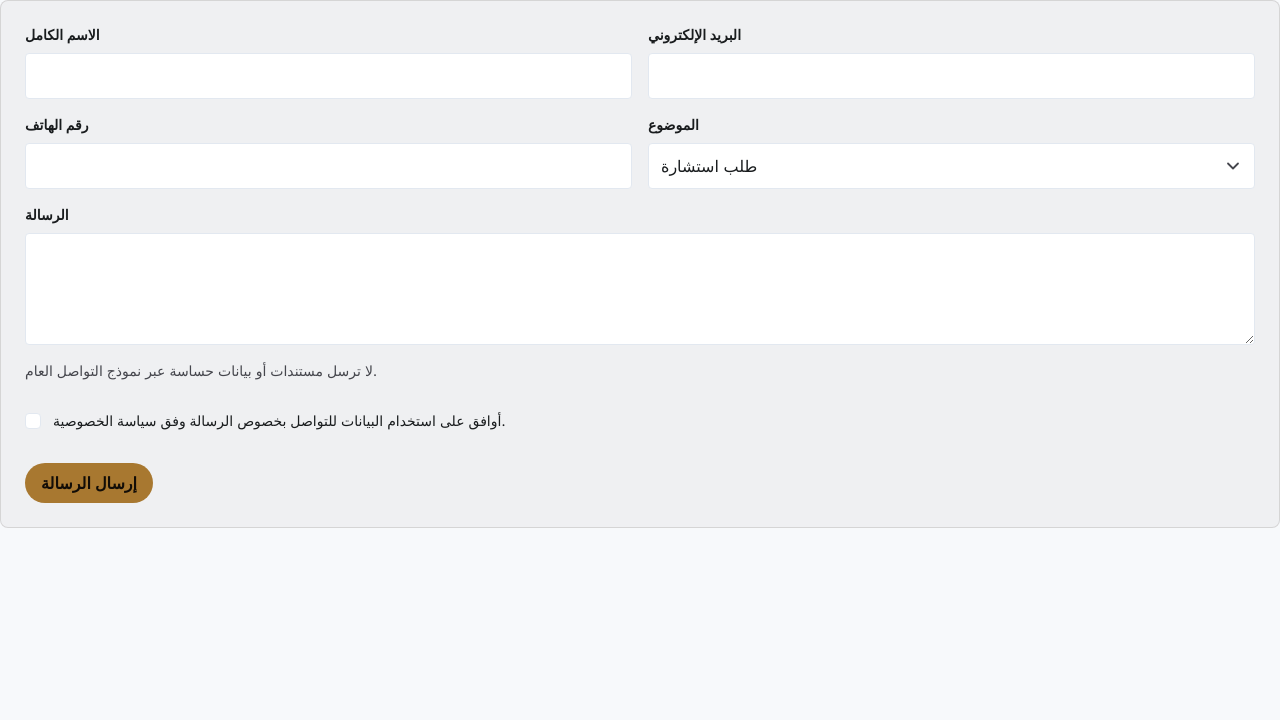
Test: public contact form recovery › retains values and supports retry after a rejected ar request
The width and height of the screenshot is (1280, 720).
Expected: the button "إرسال الرسالة" is enabled, left=25, top=463, right=153, bottom=503
Type "Synthetic Contact" into the field labelled "الاسم الكامل" at point(328, 76), box left=25, top=53, right=632, bottom=99
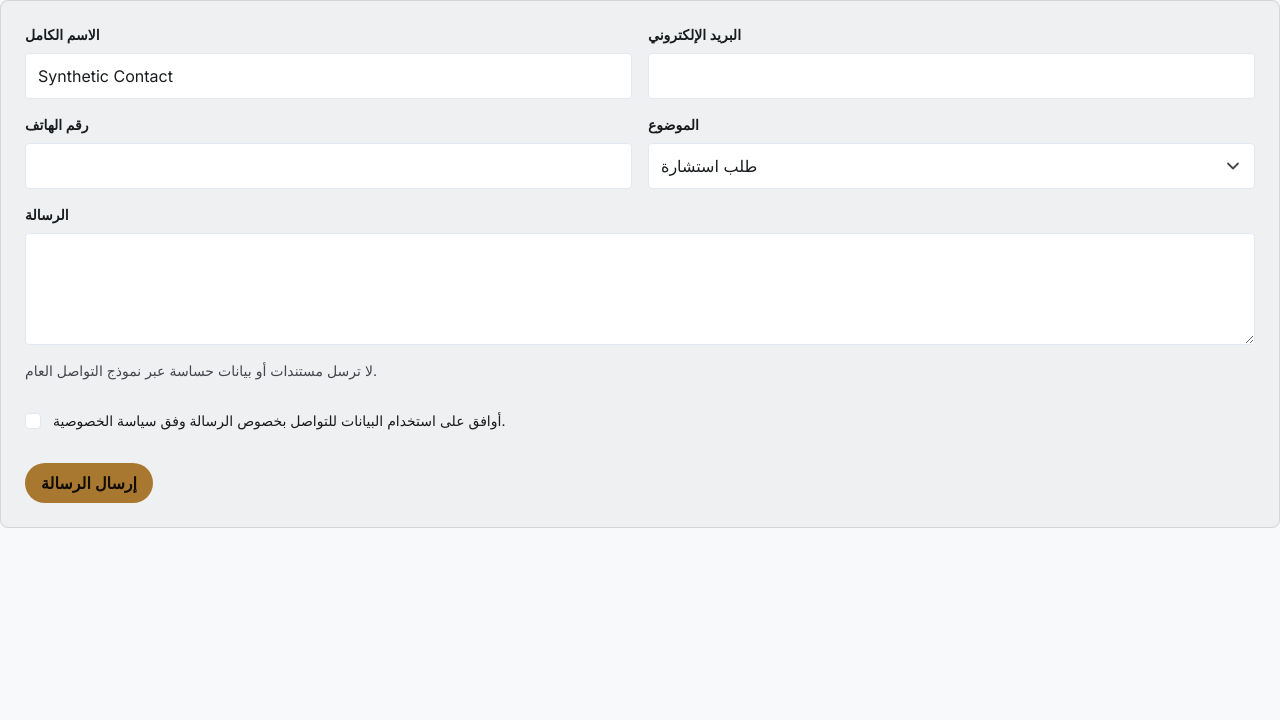
Type "synthetic@example.test" into the field labelled "البريد الإلكتروني" at point(952, 76), box left=648, top=53, right=1255, bottom=99
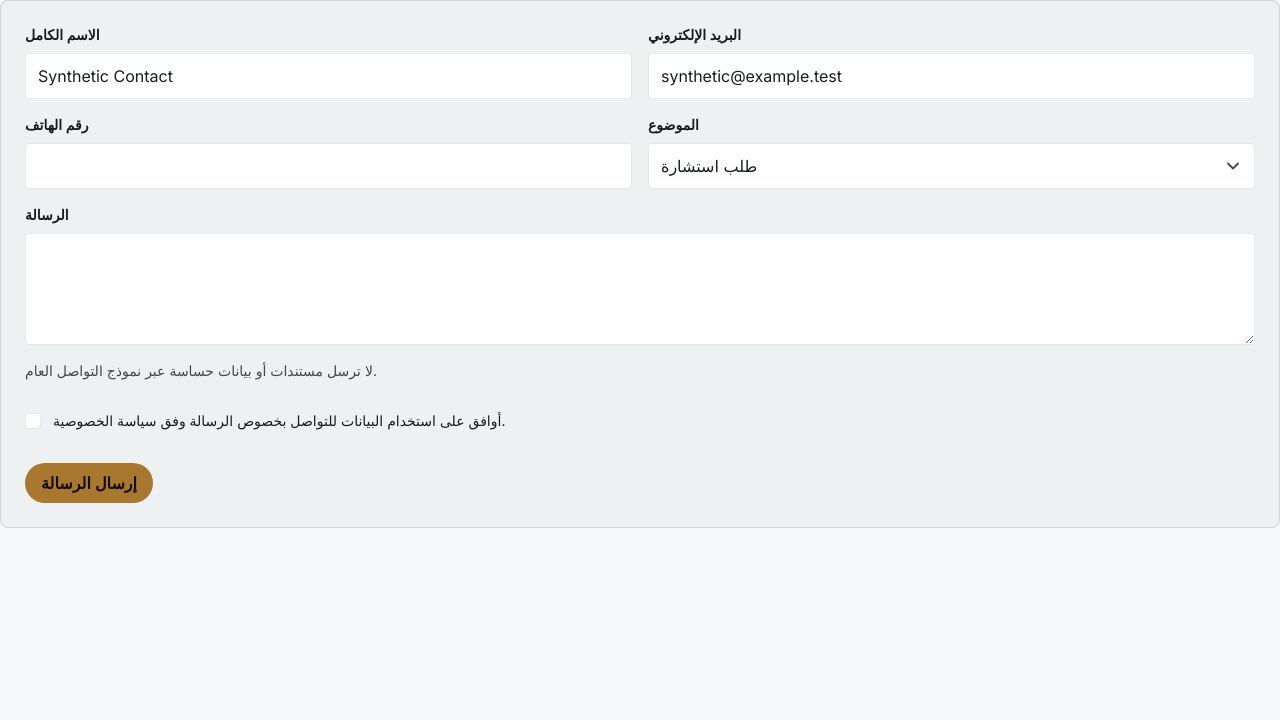
Type "Synthetic message retained after a network failure." into the text box labelled "الرسالة" at point(640, 289), box left=25, top=233, right=1255, bottom=345
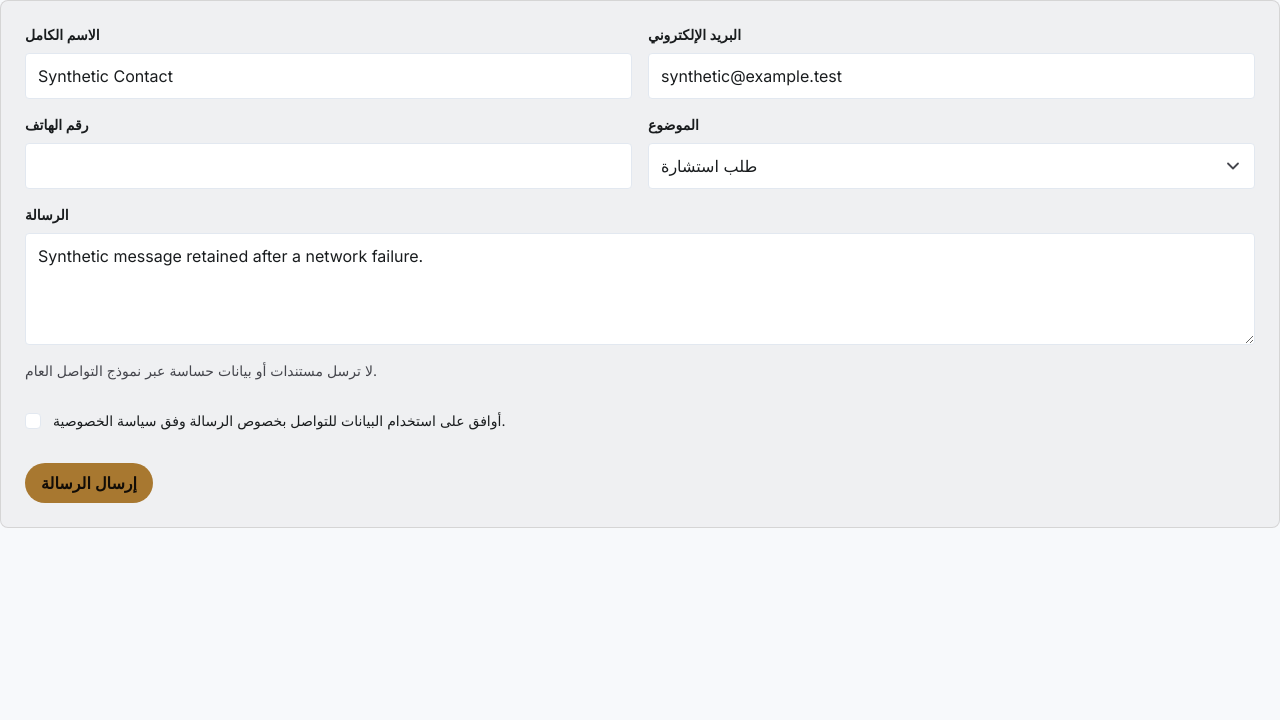
Click the checkbox at point(33, 421), box left=25, top=413, right=41, bottom=429
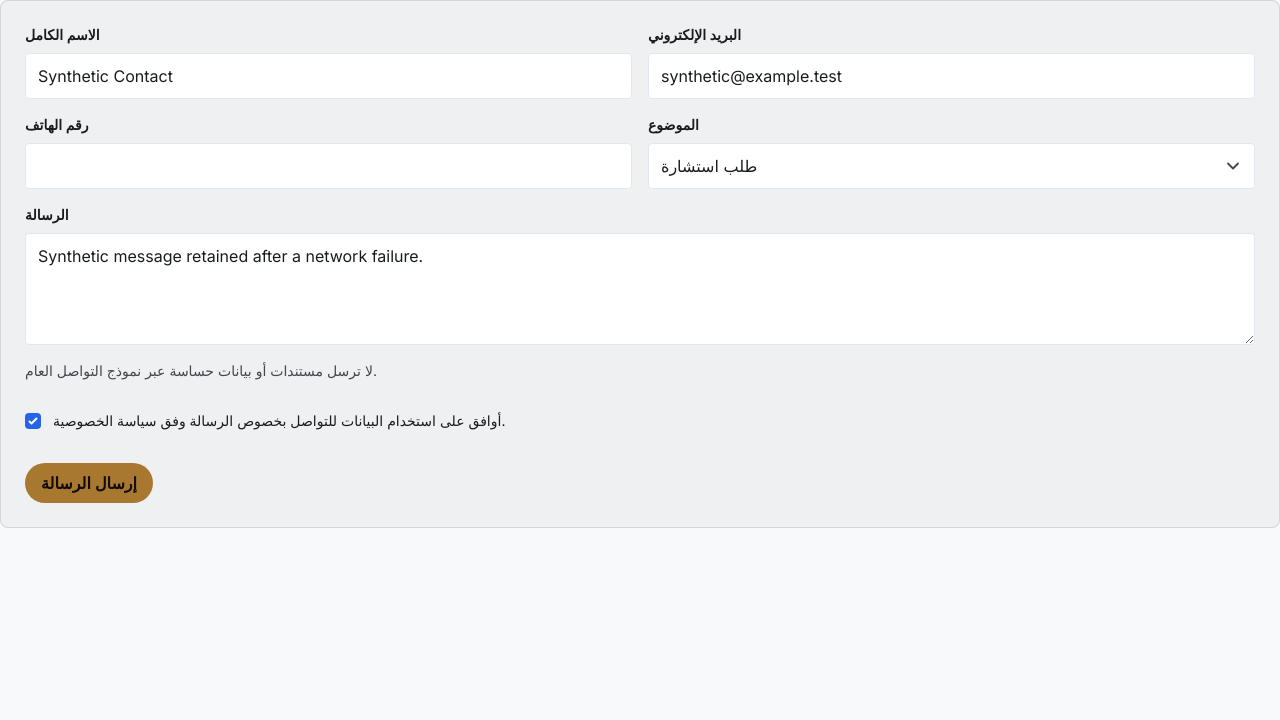
Click the button "إرسال الرسالة" at point(89, 483), box left=25, top=463, right=153, bottom=503
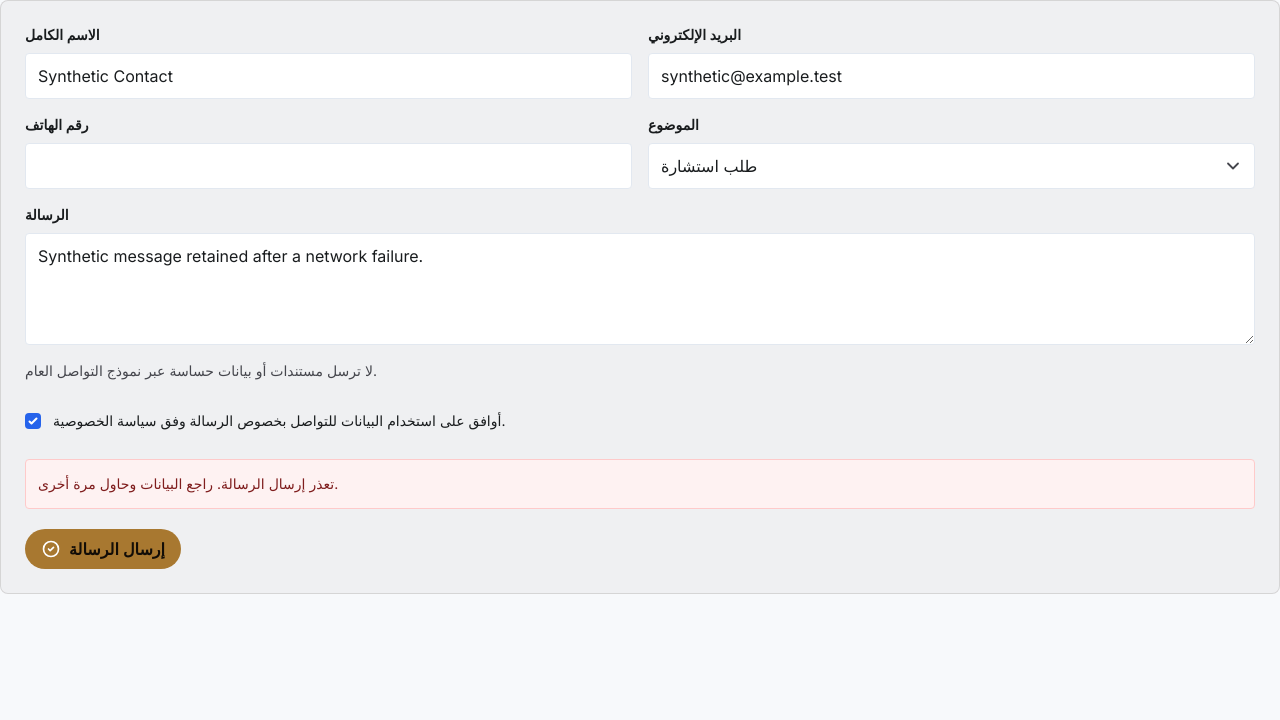
Now the message "تعذر إرسال الرسالة. راجع البيانات وحاول مرة أخرى." is shown, box left=25, top=459, right=1255, bottom=509
Now the message reads "تعذر إرسال الرسالة. راجع البيانات وحاول مرة أخرى.", box left=38, top=475, right=338, bottom=492
Click the button "إرسال الرسالة" at point(103, 549), box left=25, top=529, right=181, bottom=569
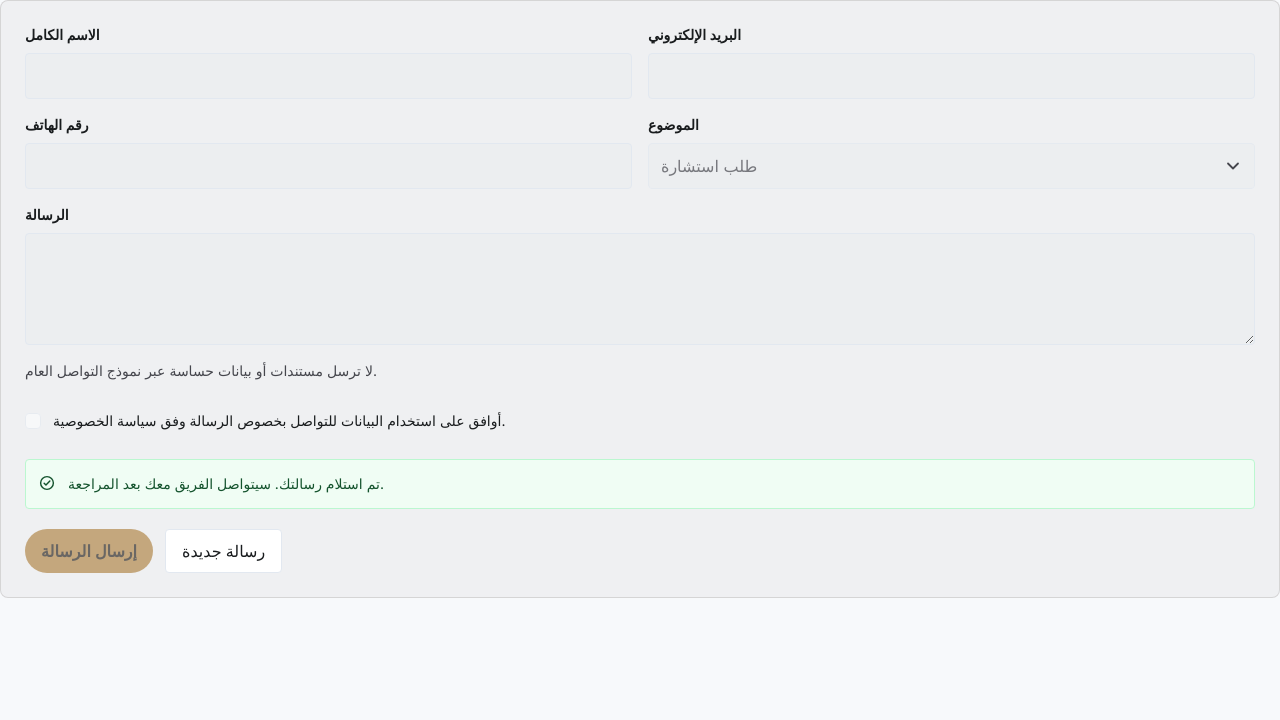
Expected: the field labelled "الاسم الكامل" is empty, left=25, top=53, right=632, bottom=99
Now the message "تم استلام رسالتك. سيتواصل الفريق معك بعد المراجعة." is shown, box left=25, top=459, right=1255, bottom=509
Now the message reads "تم استلام رسالتك. سيتواصل الفريق معك بعد المراجعة.", box left=68, top=475, right=384, bottom=492
